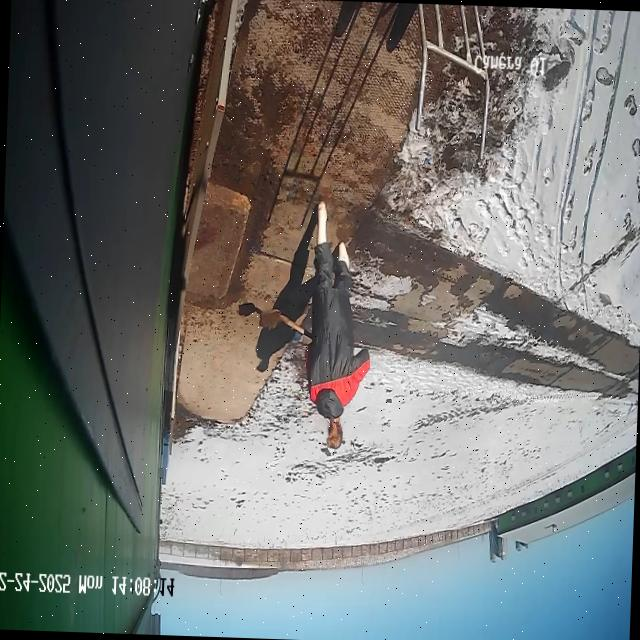Red uniform: (305, 243, 369, 418)
